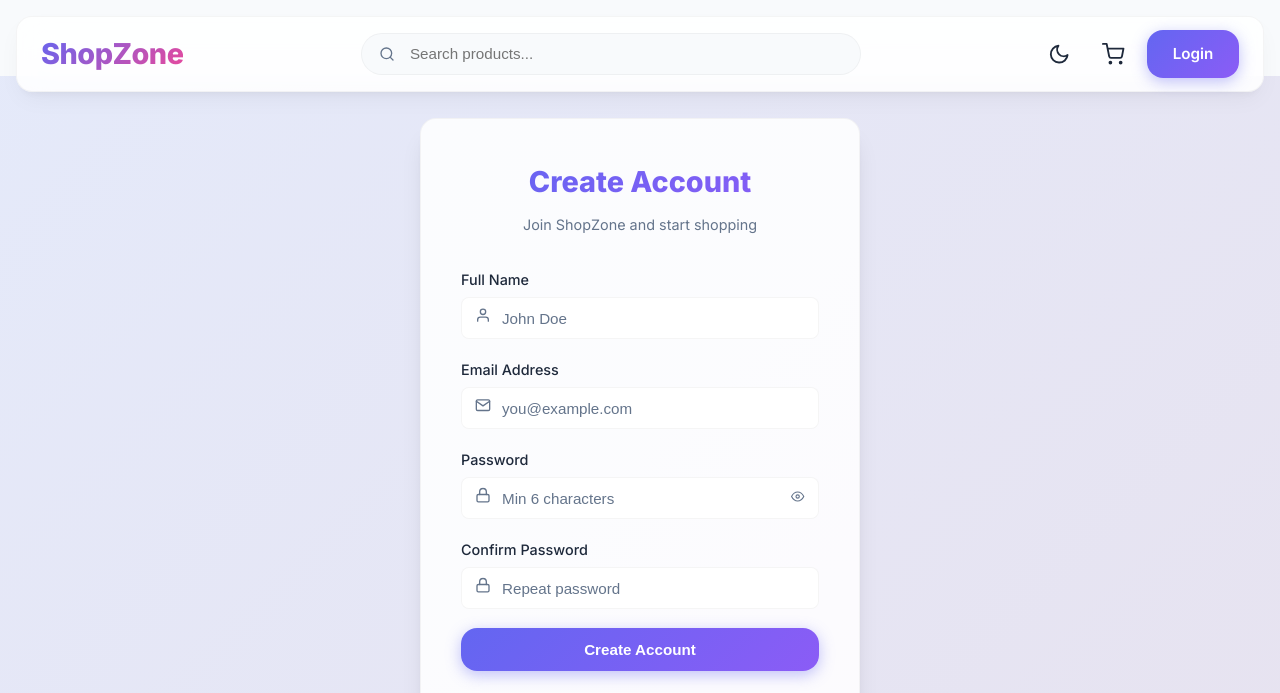
Authentication Tests › Registration › should show validation errors on empty registration form
The image size is (1280, 693).
What coordinates should you click on to do the following:
click the button with test id "register-submit"
I would click on:
 (640, 650)
Its box is [461,628,819,671].
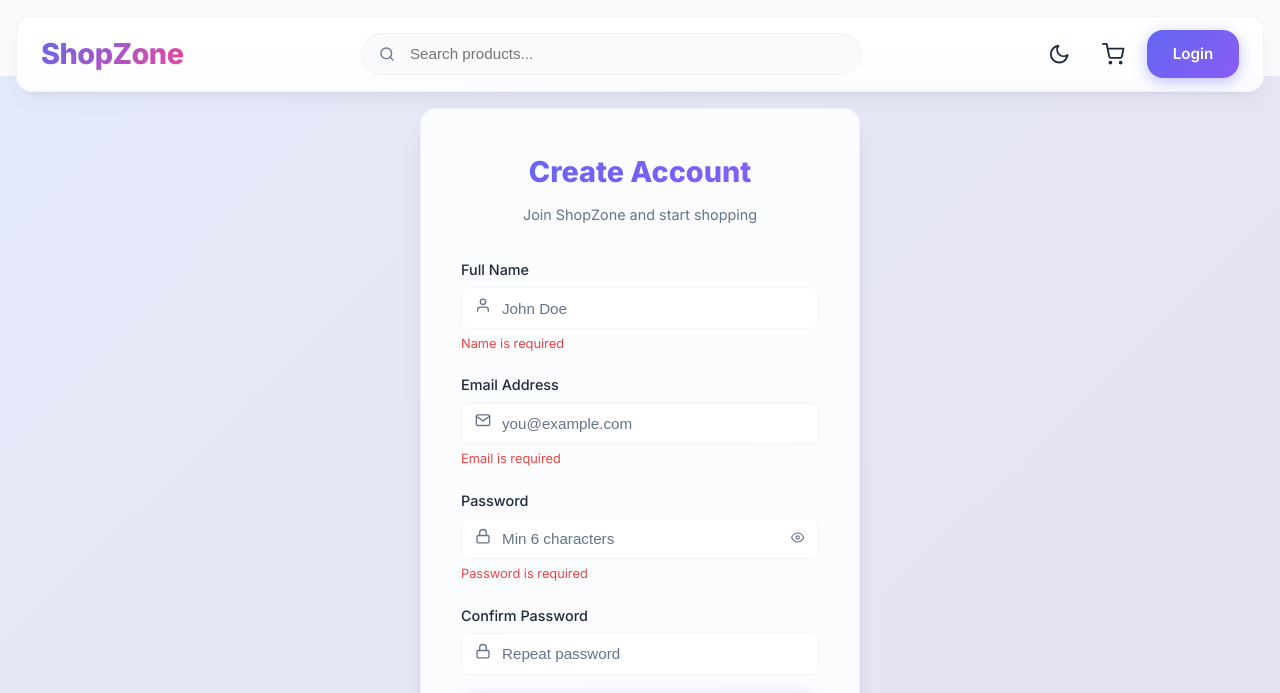
Result: the text "Name is required" is shown at [461,336,564,351]
Result: the text "Email is required" is shown at [461,451,561,466]
Result: the text "Password is required" is shown at [461,566,588,581]
